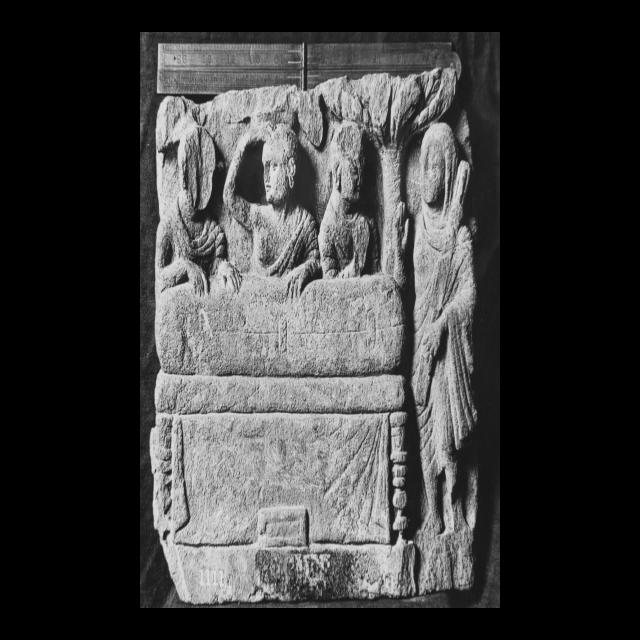buddha-sleeping: (151, 273, 405, 549)
